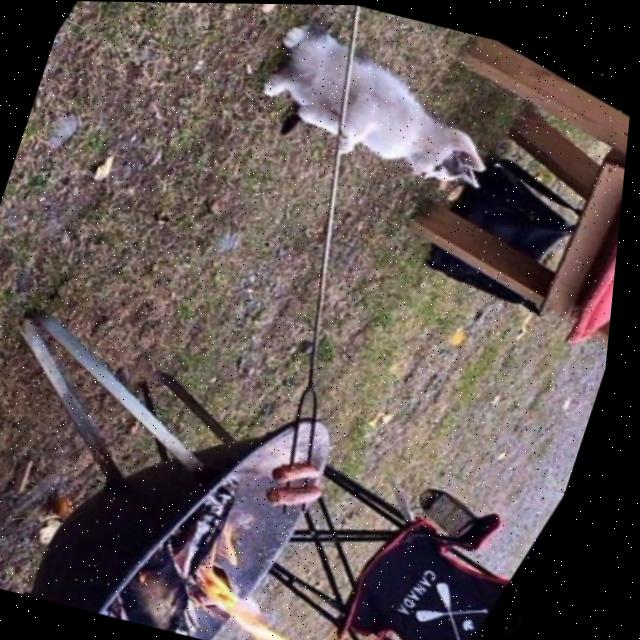Cats: (206, 3, 546, 231)
